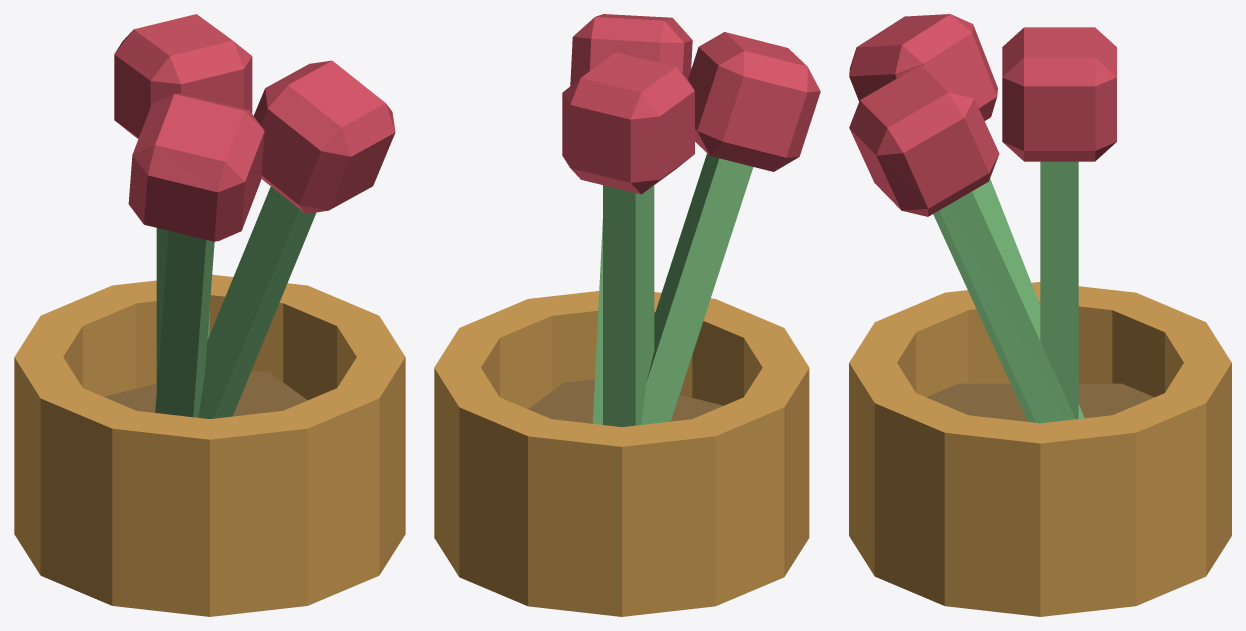
The model's file is plant_8.glb.
The picture shows the model from 3 angles, left to right: view 1: azimuth 30°, elevation 25°; view 2: azimuth 150°, elevation 25°; view 3: azimuth 270°, elevation 25°; orthographic projection. The views are drawn at different scales.
Parts seen in each view (by area): view 1: Mesh_Mesh_head_geo.001_lambert2SG.001; view 2: Mesh_Mesh_head_geo.001_lambert2SG.001; view 3: Mesh_Mesh_head_geo.001_lambert2SG.001.
Boxes of the visible parts, x1,y1,x2,y2 form: Mesh_Mesh_head_geo.001_lambert2SG.001: (14, 14, 405, 616); Mesh_Mesh_head_geo.001_lambert2SG.001: (434, 14, 820, 616); Mesh_Mesh_head_geo.001_lambert2SG.001: (849, 14, 1231, 616).
Bounding box in the file's own units: 1 × 1.4 × 1.
